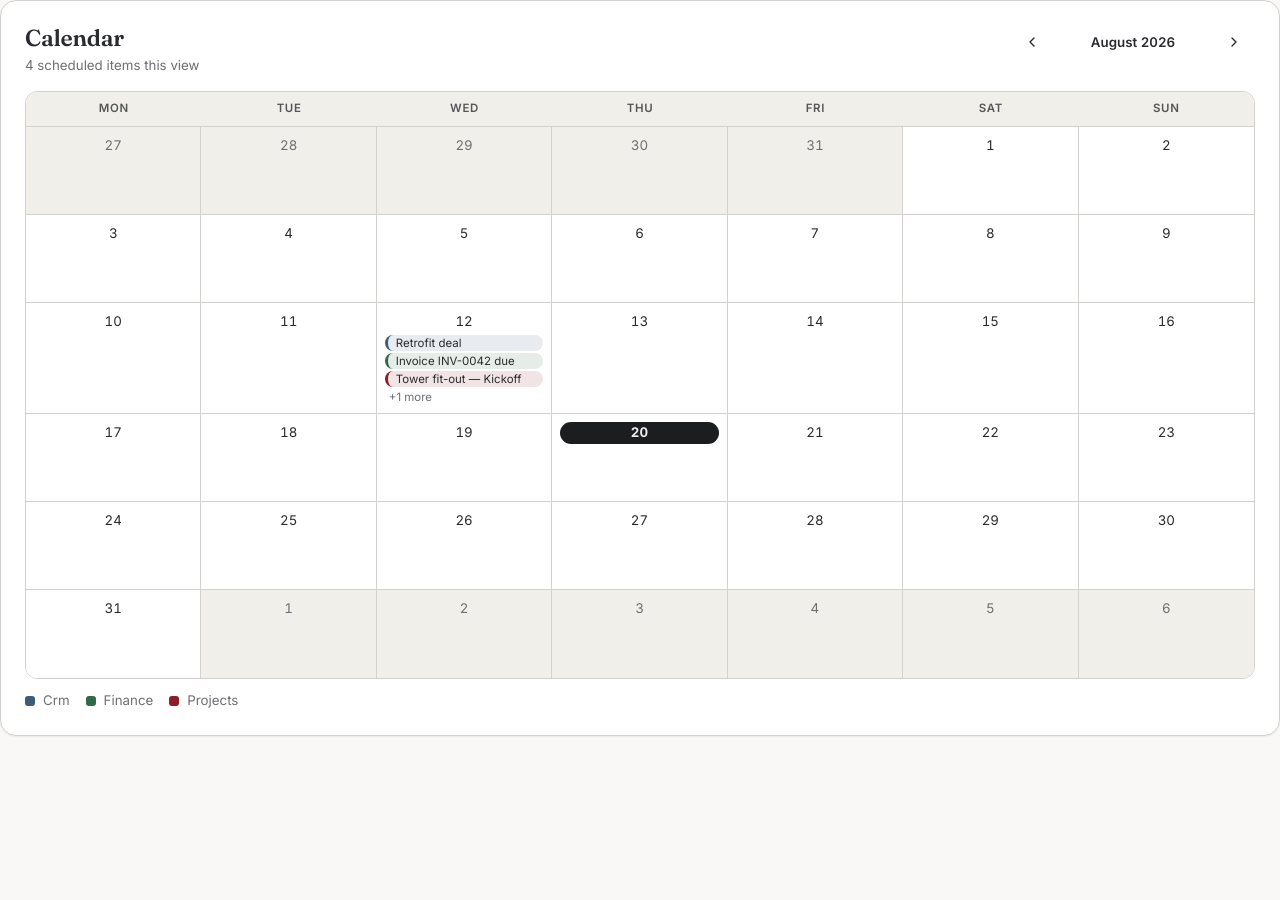
Test: Calendar quick view › +N more opens the day's full list, each row deep-linking
expect the button with test id "calendar-chip" showing "Retrofit deal" is shown: met, box x1=385 y1=335 x2=543 y2=351
expect the number of buttons with test id "calendar-chip" is 3: met, box x1=385 y1=335 x2=543 y2=351; x1=385 y1=353 x2=543 y2=369; x1=385 y1=371 x2=543 y2=387
Step 1. Click the button with test id "calendar-more" → (464, 397), box x1=385 y1=389 x2=543 y2=405
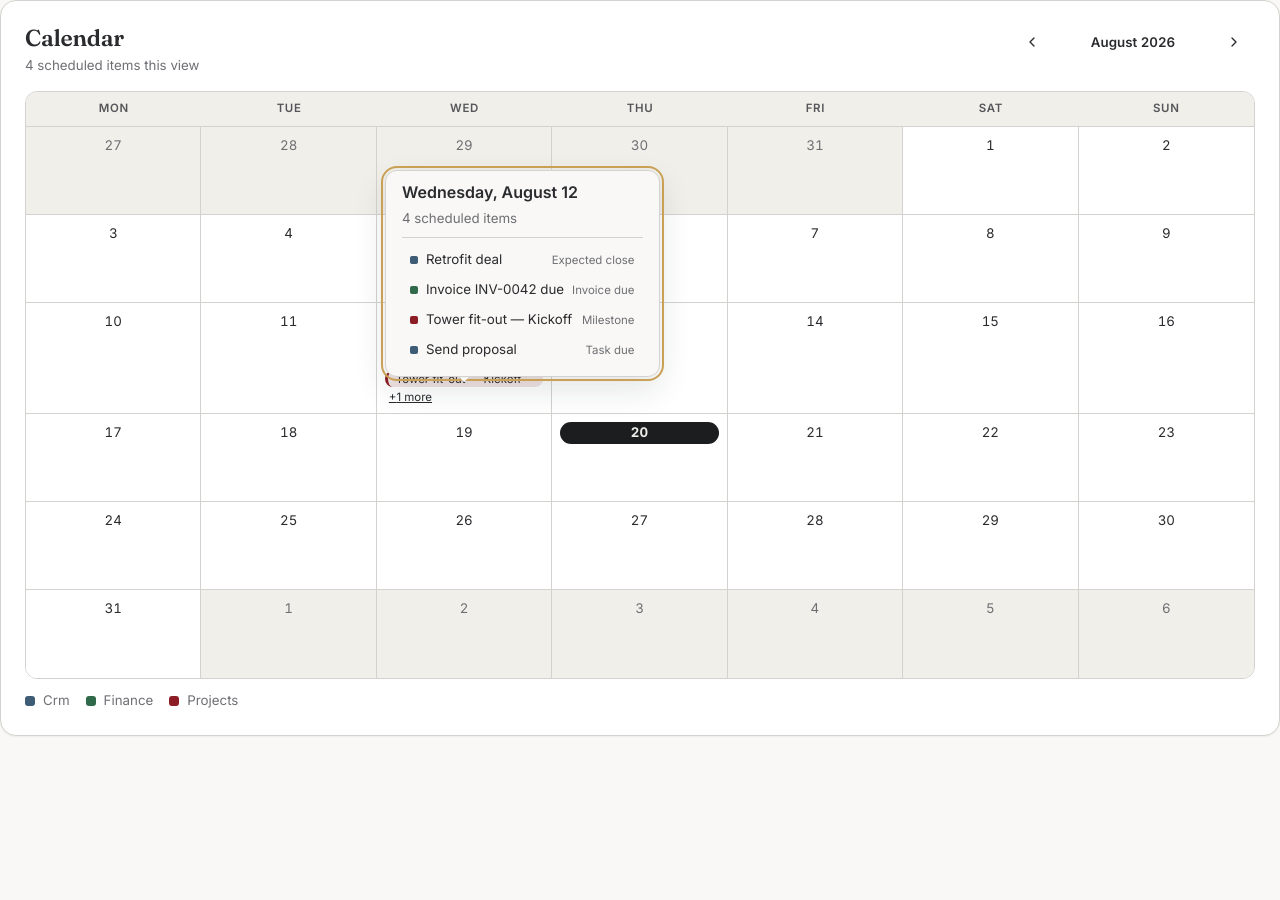
expect the text "4 scheduled items" is shown: met, box x1=402 y1=210 x2=517 y2=226
expect the text "Retrofit deal" is shown: met, box x1=426 y1=251 x2=502 y2=267
expect the text "Invoice INV-0042 due" is shown: met, box x1=426 y1=280 x2=564 y2=300
